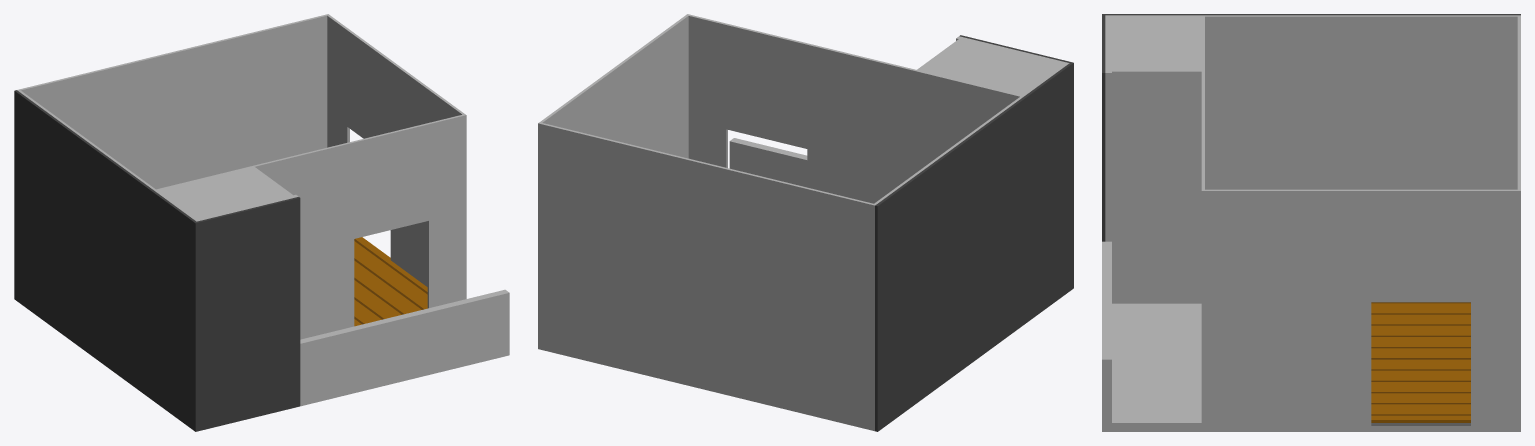
The model's file is 4x2 second (1)-7.obj.
3 views of the same model, side by side, from view 1: azimuth 30°, elevation 25°; view 2: azimuth 150°, elevation 25°; view 3: azimuth 270°, elevation 25° (orthographic). The views are drawn at different scales.
Visible parts, largest first — view 1: 4x2 second (1)-7; view 2: 4x2 second (1)-7; view 3: 4x2 second (1)-7.
Boxes of the visible parts, box(x1,y1,x2,y2) form: 4x2 second (1)-7: box(14, 14, 509, 431); 4x2 second (1)-7: box(538, 14, 1073, 431); 4x2 second (1)-7: box(1102, 14, 1520, 431).
Bounding box in the file's own units: 126 × 80 × 126.
Materials: 1 (1 with a texture image).
